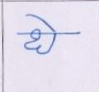e_matra: (26, 14, 59, 31)
